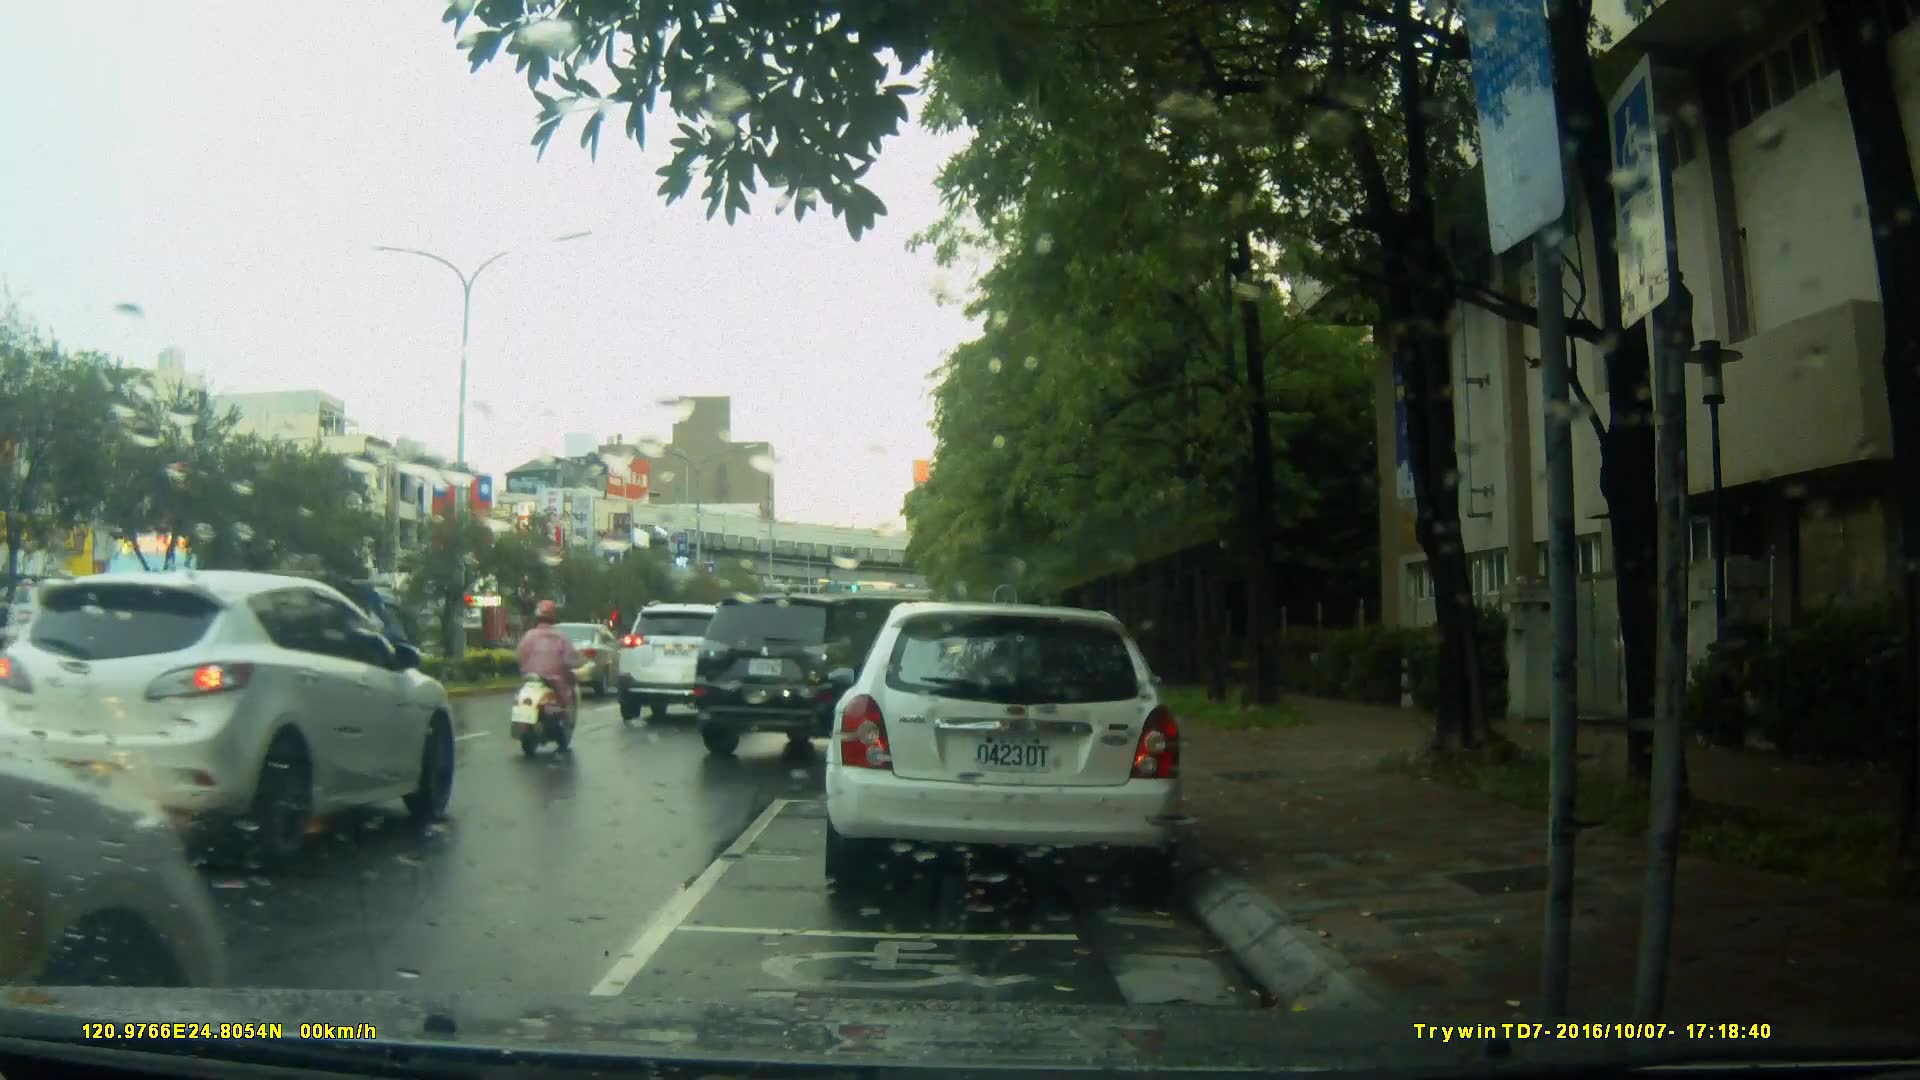rider: (511, 599, 585, 758)
vehicle: (1, 570, 466, 869), (820, 602, 1188, 898), (682, 591, 939, 761), (618, 602, 766, 724), (519, 619, 625, 701)
